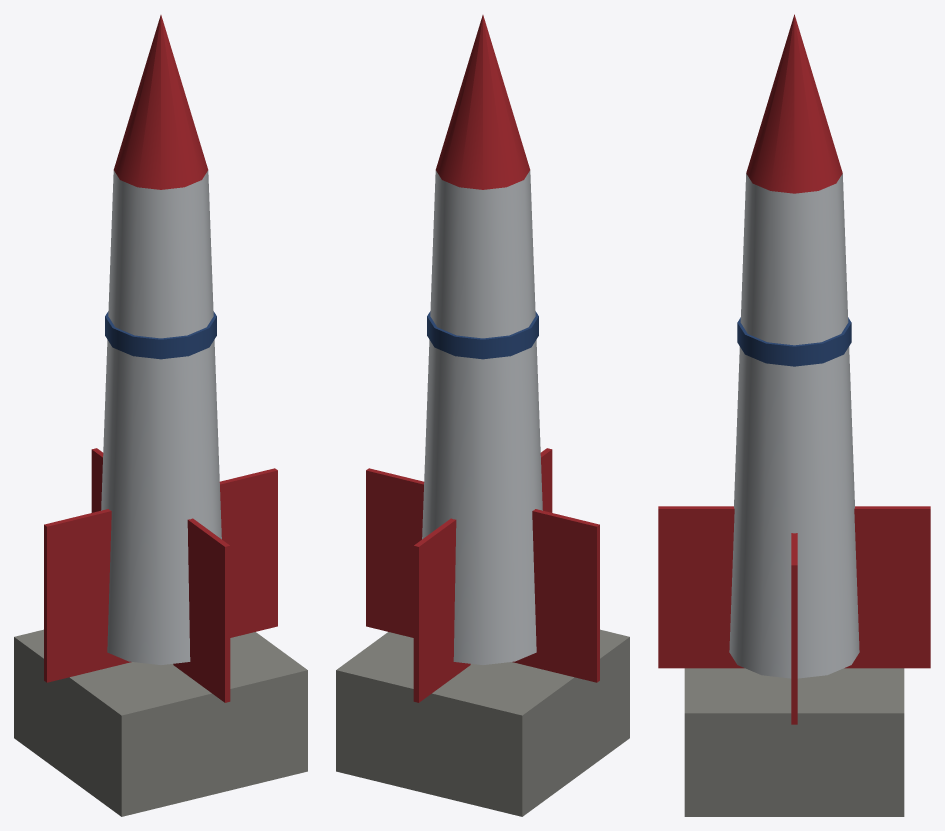
The model's file is mark-rocket.glb.
The picture shows the model from 3 angles, left to right: view 1: azimuth 30°, elevation 25°; view 2: azimuth 150°, elevation 25°; view 3: azimuth 270°, elevation 25°; orthographic projection. The views are drawn at different scales.
Visible parts, largest first — view 1: 01_#c4c8cc, 00_#85857f, 02_#a3262c, 03_#2c4a7a_noshadow; view 2: 01_#c4c8cc, 00_#85857f, 02_#a3262c, 03_#2c4a7a_noshadow; view 3: 01_#c4c8cc, 02_#a3262c, 00_#85857f, 03_#2c4a7a_noshadow.
Part boxes in pixels (x1,y1,x2,y2): 01_#c4c8cc: (101,170,221,664); 00_#85857f: (14,629,307,816); 02_#a3262c: (44,15,277,702); 03_#2c4a7a_noshadow: (105,311,216,359); 01_#c4c8cc: (422,170,542,664); 00_#85857f: (336,629,629,816); 02_#a3262c: (366,15,599,702); 03_#2c4a7a_noshadow: (427,311,538,359); 01_#c4c8cc: (729,173,859,678); 02_#a3262c: (658,14,930,724); 00_#85857f: (684,668,904,816); 03_#2c4a7a_noshadow: (737,317,851,366).
Size of the model in its own units: 6.2 by 19 by 6.2.
